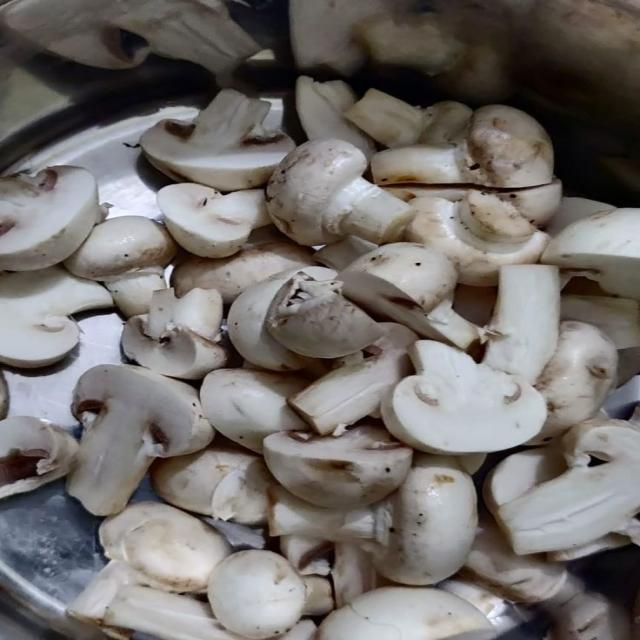champignon mushrooms: (269, 455, 477, 585), (67, 365, 213, 515), (497, 420, 639, 554), (3, 0, 260, 73), (383, 341, 546, 454), (140, 89, 294, 191), (356, 4, 513, 103), (267, 139, 413, 245), (372, 105, 553, 187), (339, 243, 479, 349), (288, 323, 417, 435), (406, 190, 548, 286), (374, 455, 477, 585), (264, 427, 412, 508), (100, 503, 230, 593), (0, 267, 113, 367), (65, 216, 176, 317), (171, 228, 314, 304), (0, 166, 103, 270), (534, 321, 618, 442), (265, 272, 383, 358), (386, 179, 562, 234), (151, 446, 273, 525), (122, 289, 226, 379), (318, 587, 494, 639), (483, 265, 559, 384), (460, 517, 566, 602), (289, 0, 409, 75), (200, 369, 307, 452), (542, 209, 639, 299), (208, 550, 306, 639), (158, 183, 270, 258), (227, 272, 307, 371), (103, 585, 240, 639), (357, 7, 465, 75), (295, 76, 375, 157), (0, 417, 78, 499), (269, 487, 384, 541), (483, 445, 566, 516), (484, 445, 566, 514), (67, 561, 144, 626), (542, 584, 630, 639), (346, 89, 424, 147), (439, 577, 518, 634), (561, 295, 639, 349), (332, 541, 379, 608), (545, 198, 615, 236), (280, 535, 333, 576), (314, 236, 376, 271), (454, 285, 497, 326), (303, 575, 335, 616), (280, 620, 317, 639), (0, 371, 9, 419)
